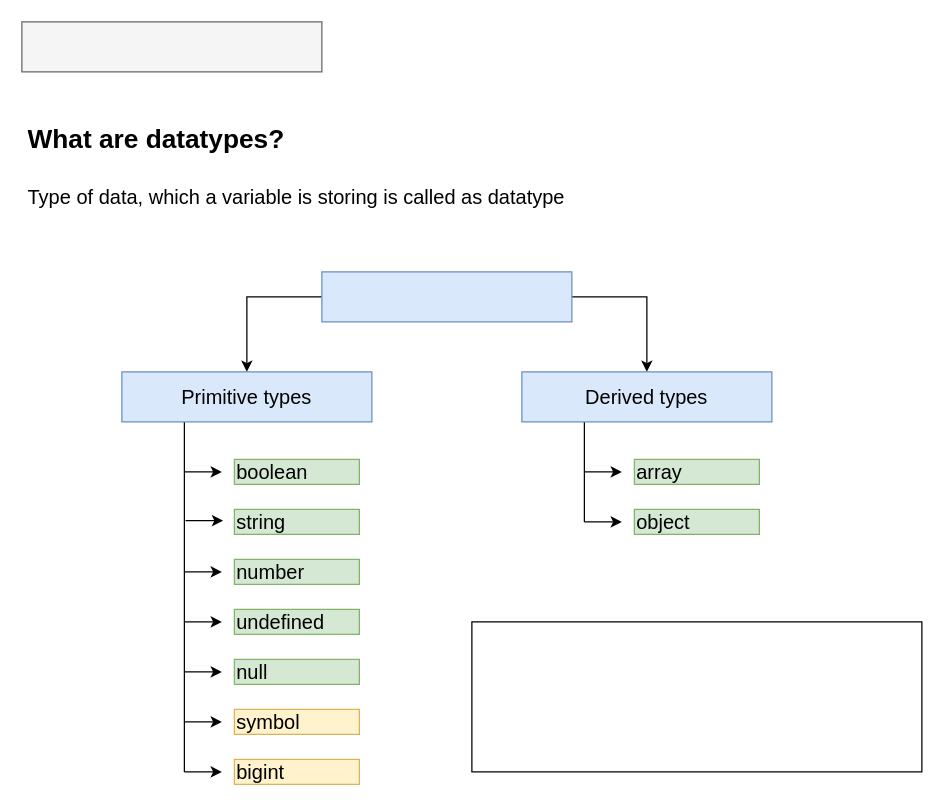
Image size: 944x806. Some labels were removed from this diagram. Here are the shapes that lost their labels. From the top down, the centre of each, then its label:
[171,46]: Data types
[446,296]: Types of Datatypes
[696,696]: MDN Documentation Reference datatypes in JS
